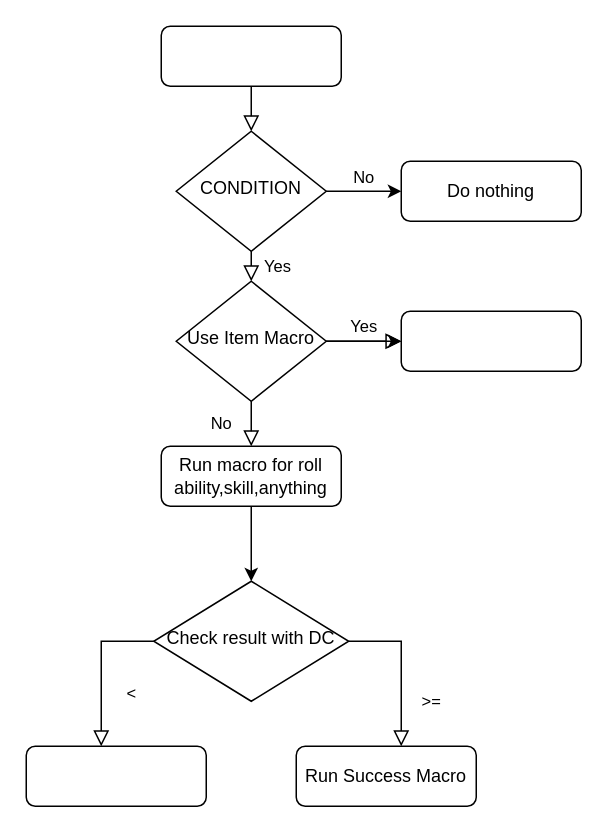
Image size: 608x833. Some labels were removed from this diagram. The centre of each missing label's shape, as x and y in pixels:
"ENABLE" belongs at (x=250, y=55).
"Run Failure Macto" belongs at (x=115, y=775).
"Run Macro from Item Macro" belongs at (x=490, y=340).
